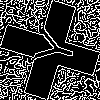Y: (25, 25, 78, 70)
